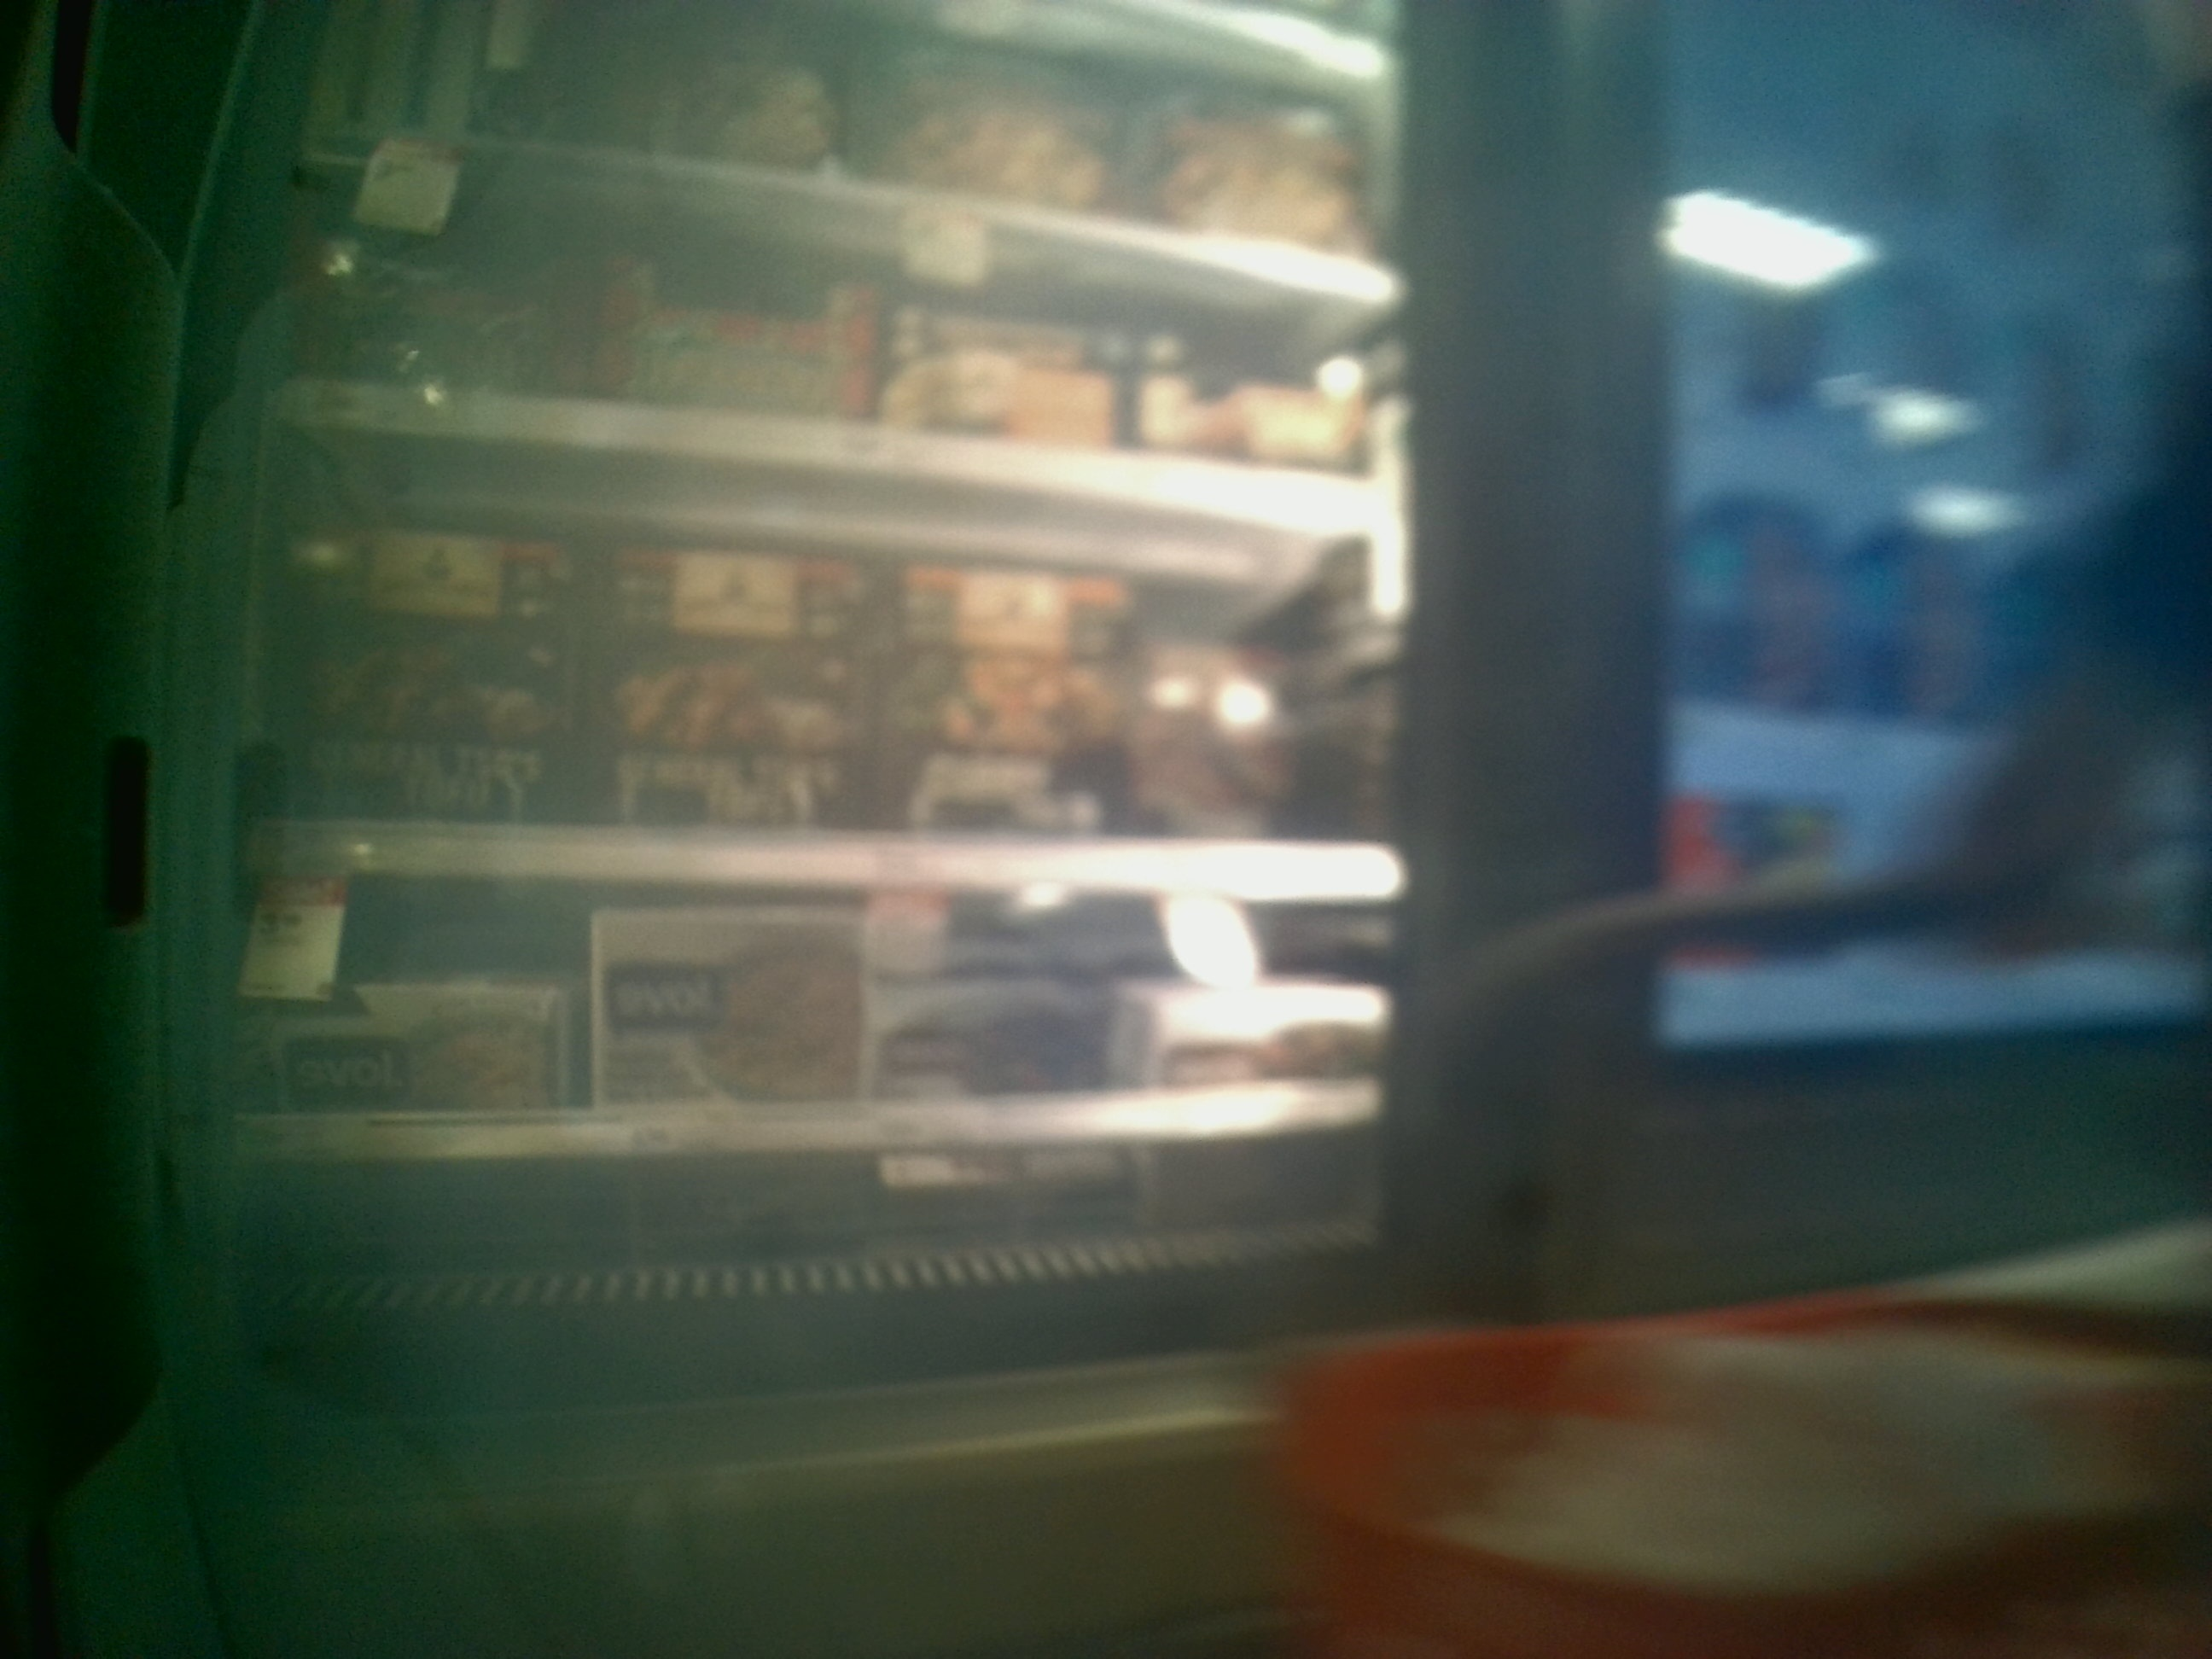frozen-food-shelf: (230, 472, 1416, 904), (228, 903, 1411, 1173)
